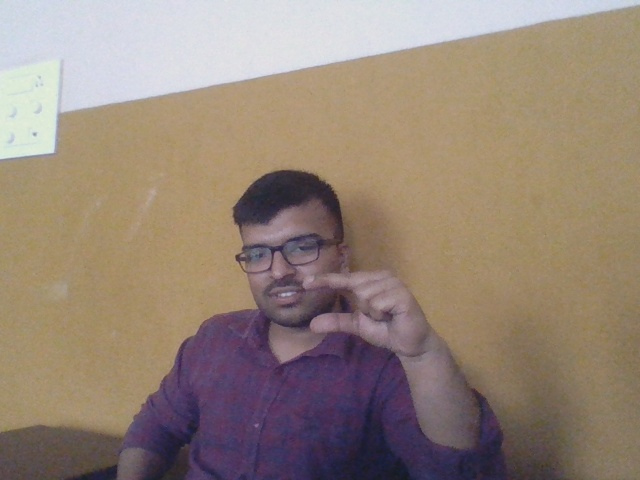No: (298, 273, 440, 361)
